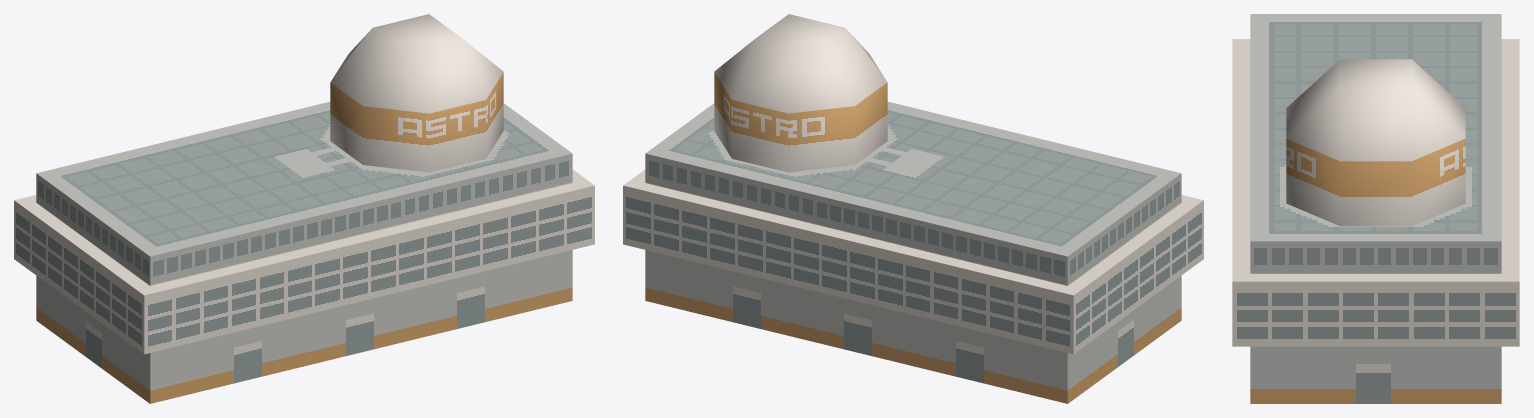
File: 01a7_Space_Center.glb
3 views of the same model, side by side, from view 1: azimuth 30°, elevation 25°; view 2: azimuth 150°, elevation 25°; view 3: azimuth 270°, elevation 25° (orthographic). The views are drawn at different scales.
Parts seen in each view (by area): view 1: part_0; view 2: part_0; view 3: part_0.
Part boxes in pixels (x1,y1,x2,y2): part_0: (14,14,594,403); part_0: (623,14,1203,403); part_0: (1232,14,1519,403).
Size of the model in its own units: 80 by 42.5 by 40.
1 material, 1 textured.
